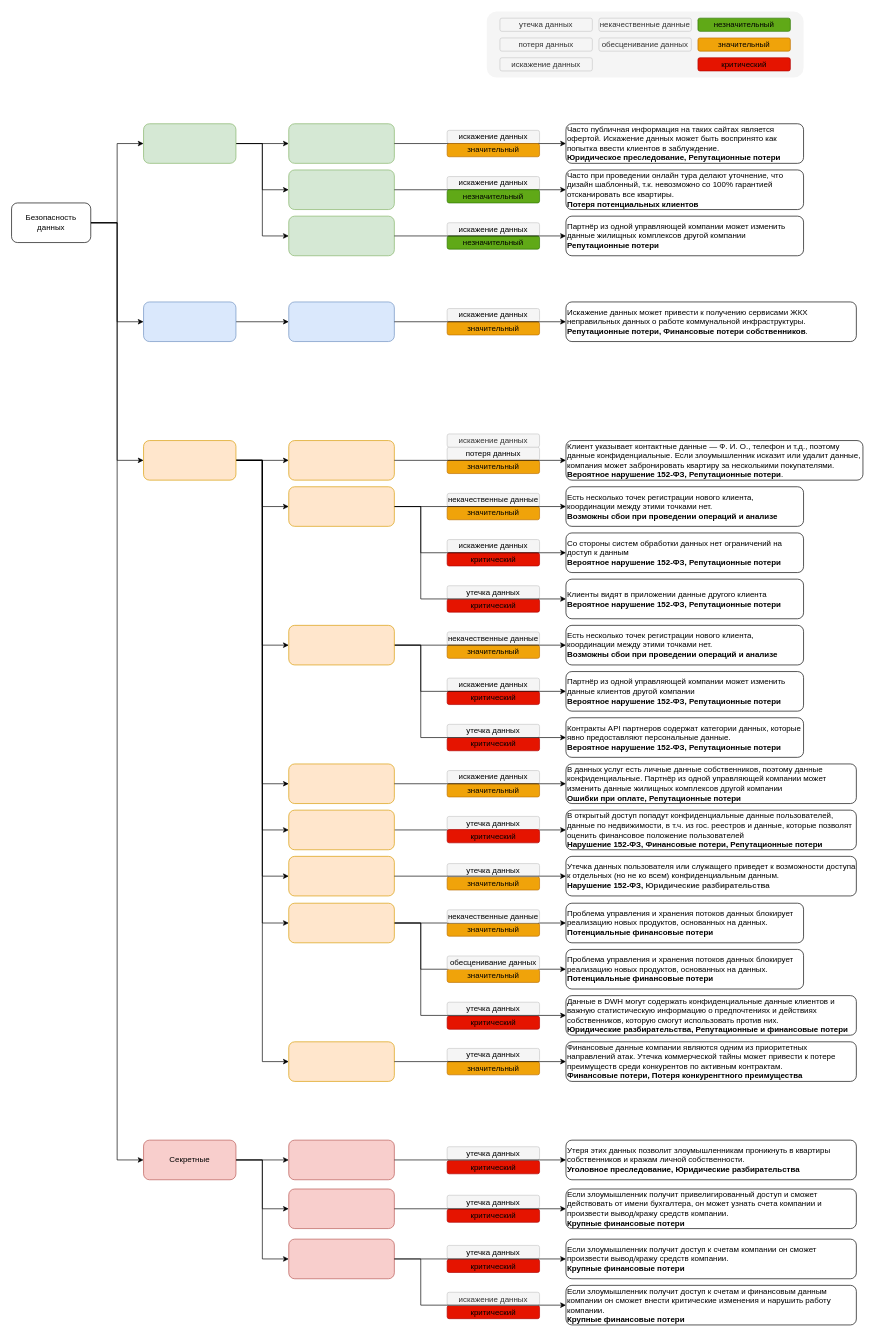
Image size: 875x1337. Some labels were removed from this diagram. The shapes that lost their labels are listed below. From the top down, each one's centre as x and y in pixels, then its label:
point 189,143: Публичные
point 341,143: Данные объектов недвижимости
point 341,189: Данные онлайн-тура
point 341,235: Публичные данные компаний ЖКУ (информация, ремонты)
point 189,321: Внутренние
point 341,321: Данные устройств "умного дома" общего пользования
point 189,460: Конфиденциальные
point 341,460: Результаты осмотра/бронирования недвижимости клиентом
point 341,506: Персональные данные клиентов/покупателей
point 341,645: Персональные данные клиентов в CRM ЖКУ
point 341,783: Данные услуг ЖКХ по собственникам (оплата и т.п.)
point 341,829: Данные сделок с недвижимостью
point 341,876: Данные службы каталогов прикладных процессов
point 341,923: Объединённые данные в DWH
point 341,1061: Данные бухгалтерского учёта
point 341,1159: Данные личных устройств "умного дома" (например, замок квартиры)
point 341,1208: Данные службы каталогов финансового сектора
point 341,1258: Финансовые данные компании
